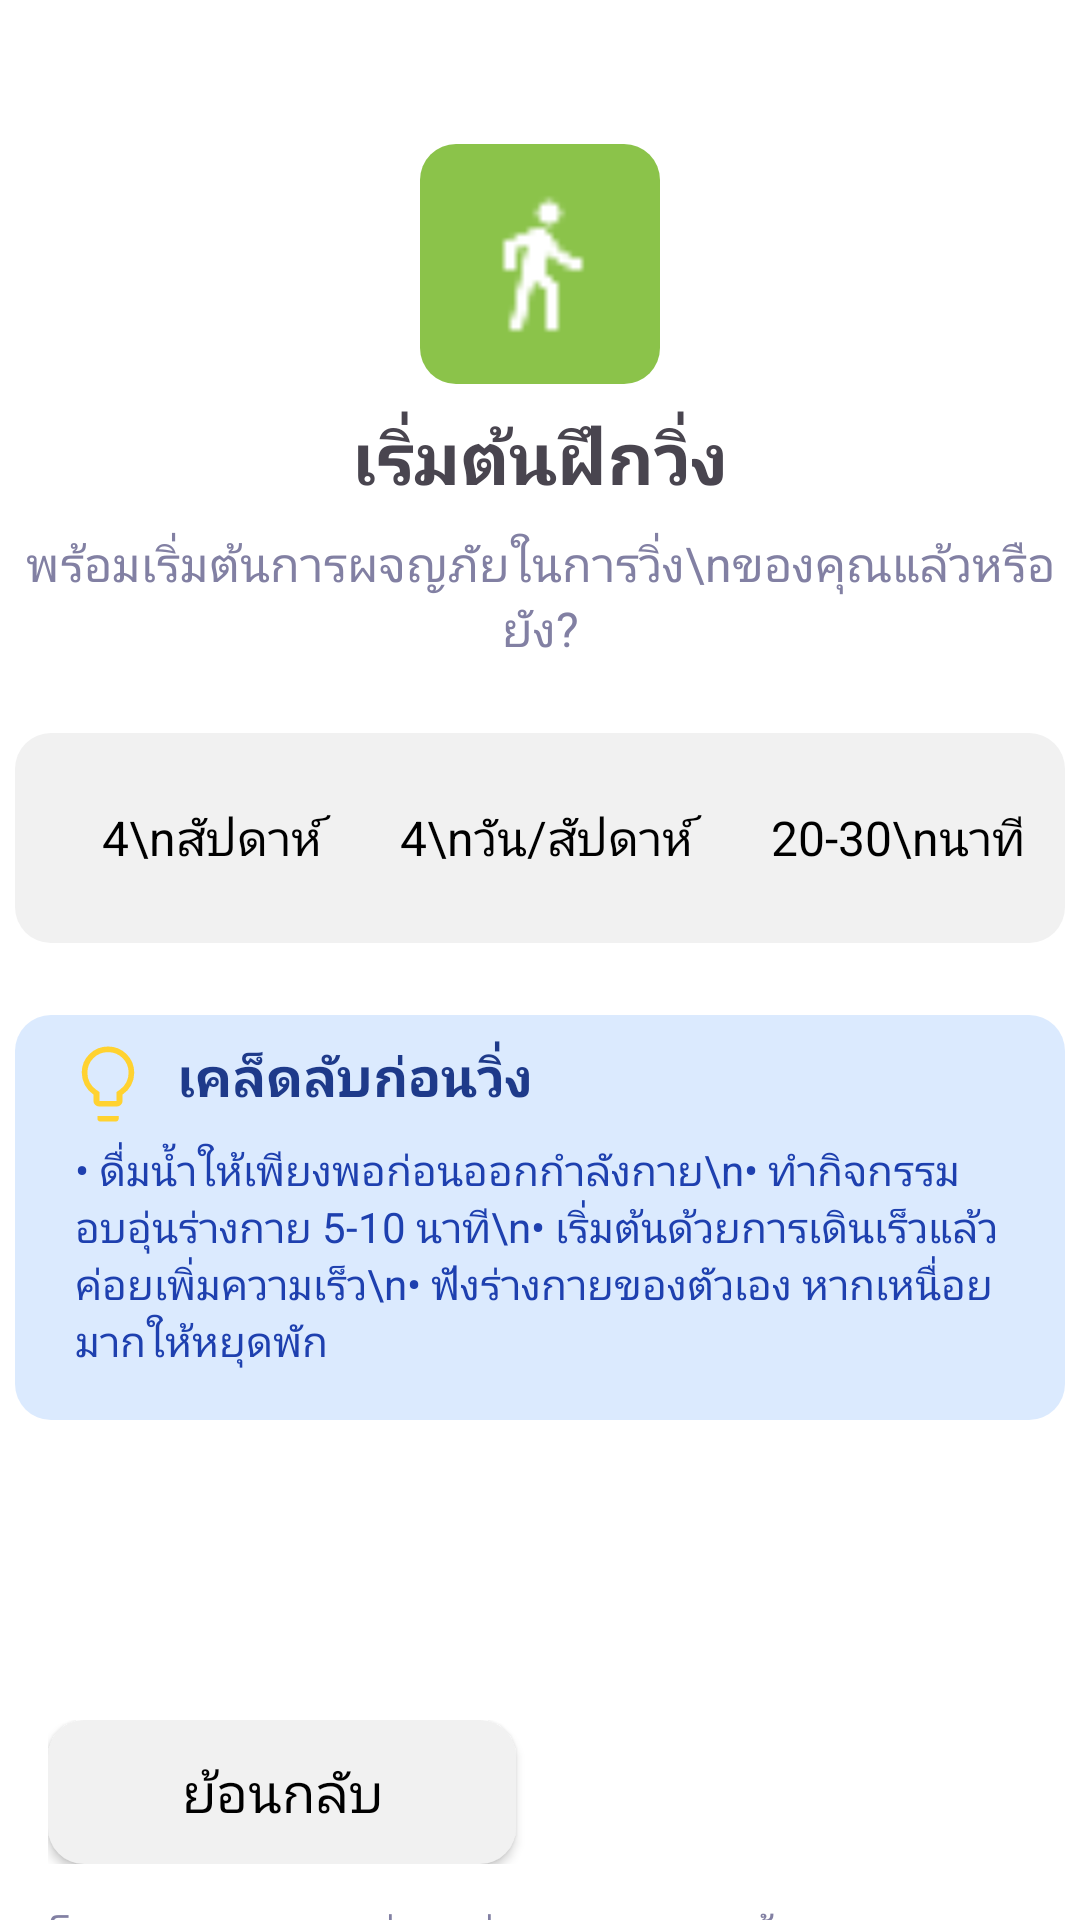

Point at icon controls on the screen. Image size 1080px x 1920px, points as [x,y].
lightbulb: [108,1084]
walk: [543,264]
